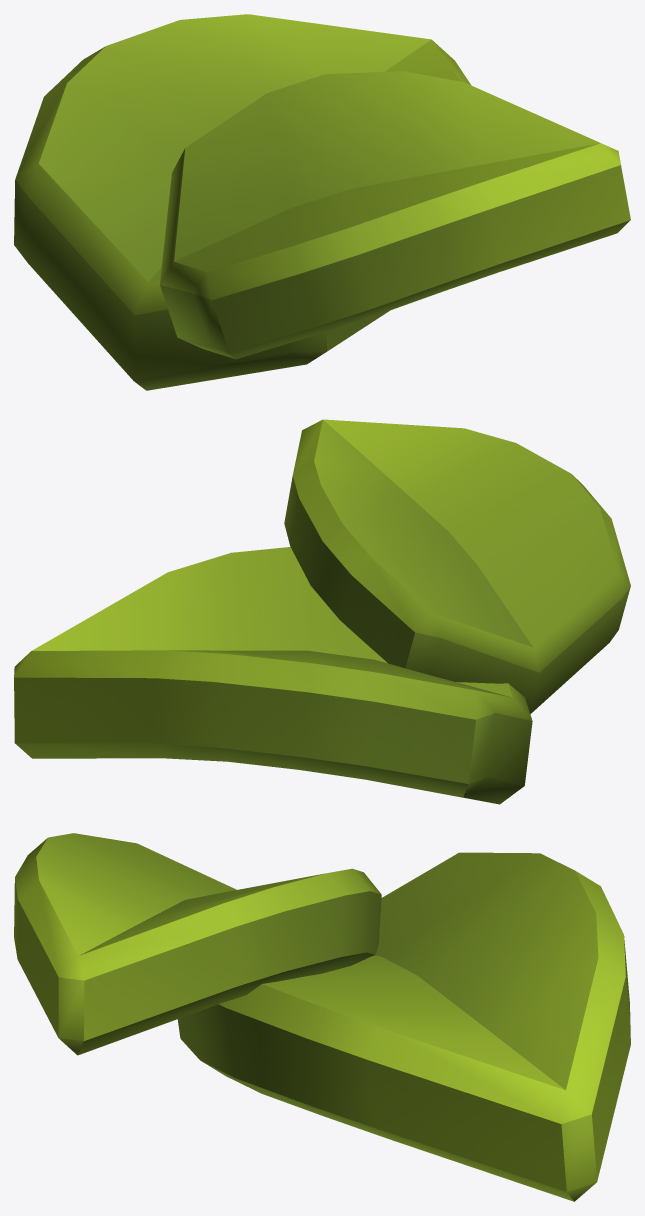
The model's file is leafs2_LOD_group.fbx.
The picture shows the model from 3 angles, top to bottom: view 1: azimuth 30°, elevation 25°; view 2: azimuth 150°, elevation 25°; view 3: azimuth 270°, elevation 25°; orthographic projection. The views are drawn at different scales.
Visible parts, largest first — view 1: leafs2_LOD0; view 2: leafs2_LOD0; view 3: leafs2_LOD0.
Part boxes in pixels (<box>): leafs2_LOD0: <box>14,14,630,390</box>; leafs2_LOD0: <box>14,419,630,804</box>; leafs2_LOD0: <box>14,833,630,1201</box>.
Size of what is drawn, in the model's own units: 71.25 by 39.94 by 80.45.
1 material, 1 textured.
